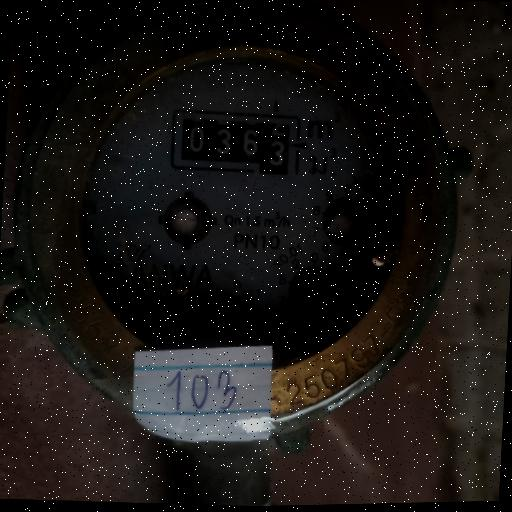0: (181, 117, 209, 161)
3: (260, 122, 292, 176), (207, 118, 240, 162)
6: (234, 121, 264, 165)
border_water_meter_number: (169, 105, 303, 179)
